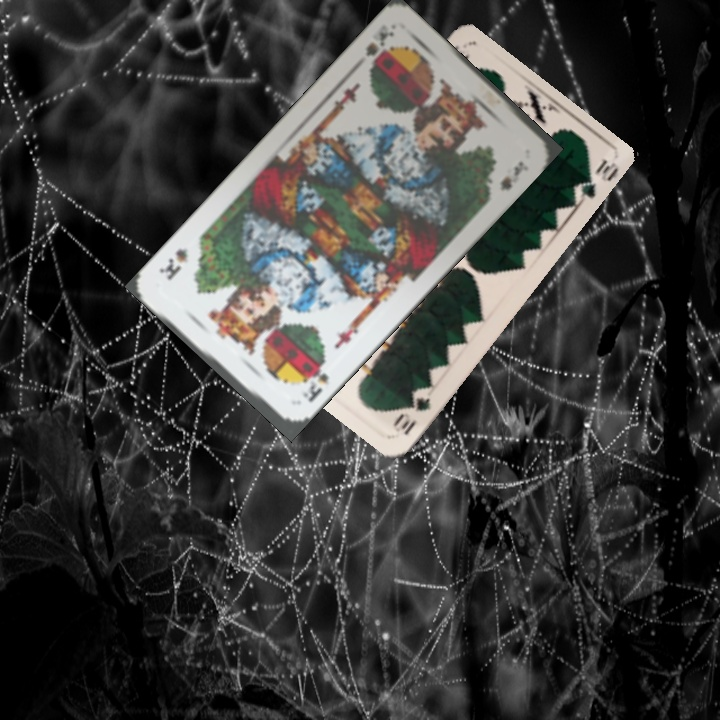G10: (389, 392, 434, 438)
SK: (361, 27, 397, 73), (298, 358, 331, 405)
